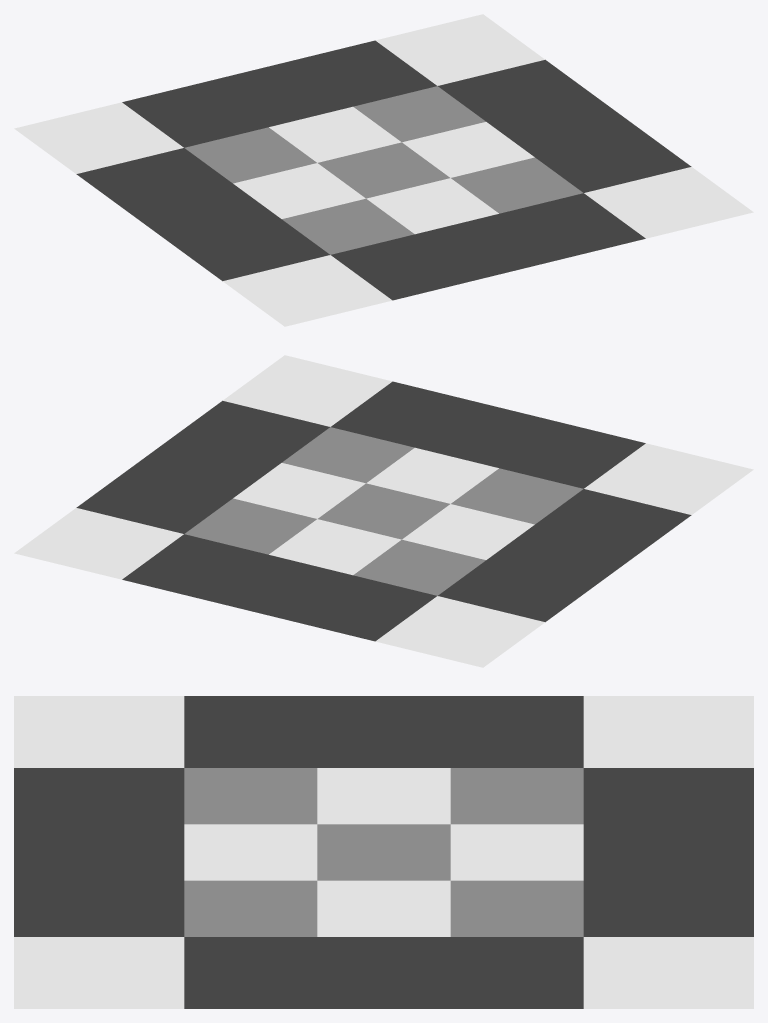
The model's file is floor_marked.fbx.
3 renders of one model, top to bottom at view 1: azimuth 30°, elevation 25°; view 2: azimuth 150°, elevation 25°; view 3: azimuth 270°, elevation 25°, orthographic. The views are drawn at different scales.
Visible parts, largest first — view 1: Floor - full a + 2b_marked; view 2: Floor - full a + 2b_marked; view 3: Floor - full a + 2b_marked.
Part boxes in pixels (box(x1,y1,x2,y2)): Floor - full a + 2b_marked: box(14, 14, 753, 326); Floor - full a + 2b_marked: box(14, 355, 753, 667); Floor - full a + 2b_marked: box(14, 696, 753, 1008).
Size of the model in its own units: 500 by 0 by 500.
1 material, 1 textured.
